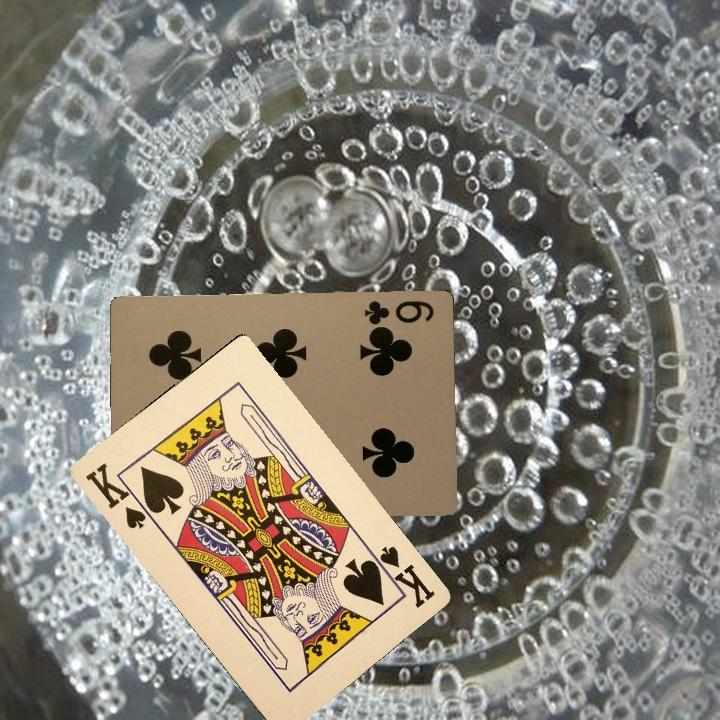6c: (360, 296, 437, 334)
Ks: (81, 458, 154, 532), (366, 541, 438, 611)
